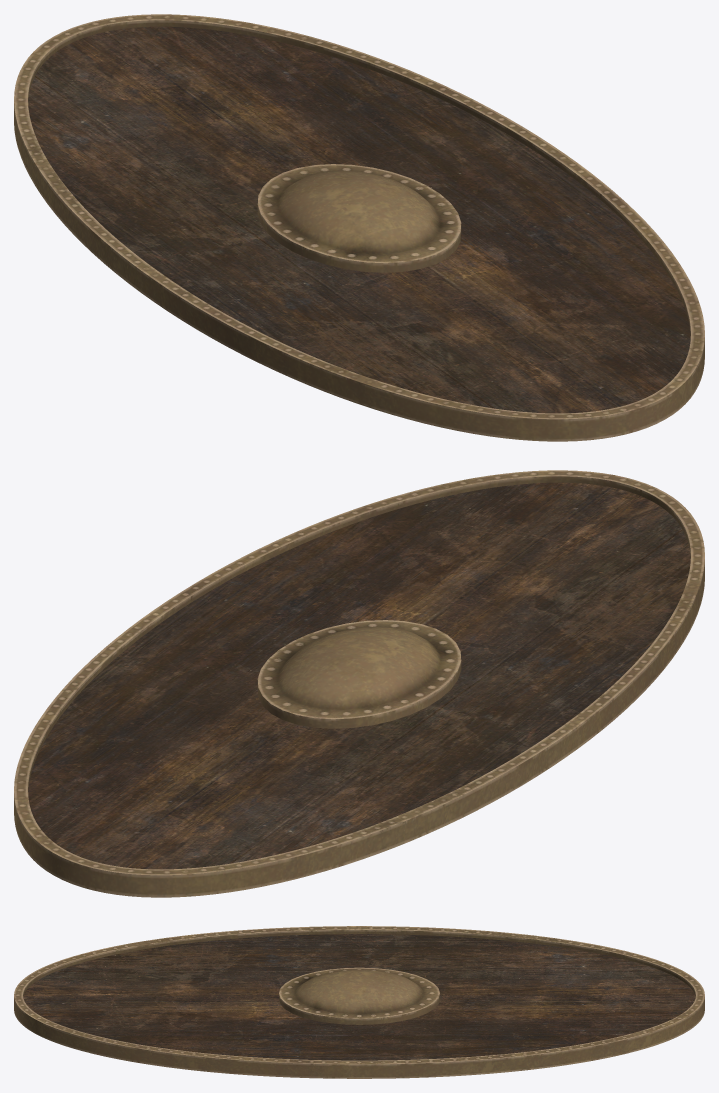
File: dunland_wulf_shield_light_f.fbx
3 renders of one model, top to bottom at view 1: azimuth 30°, elevation 25°; view 2: azimuth 150°, elevation 25°; view 3: azimuth 270°, elevation 25°, orthographic. The views are drawn at different scales.
Visible parts, largest first — view 1: dunland_wulf_shield_light_f; view 2: dunland_wulf_shield_light_f; view 3: dunland_wulf_shield_light_f.
Part boxes in pixels (x1,y1,x2,y2): dunland_wulf_shield_light_f: (14,14,704,441); dunland_wulf_shield_light_f: (14,470,704,897); dunland_wulf_shield_light_f: (14,926,704,1078).
Bounding box in the file's own units: 0.7189 × 1.52 × 0.0806.
1 material, 1 textured.
